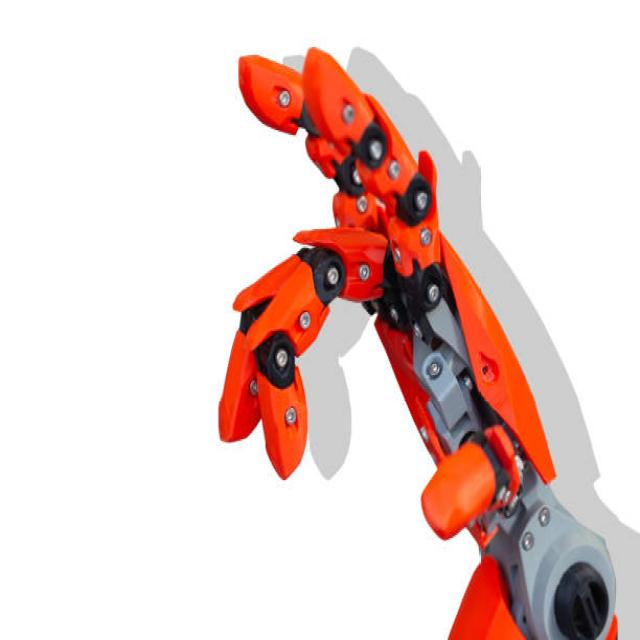Robotic-arm: (211, 42, 634, 640)
